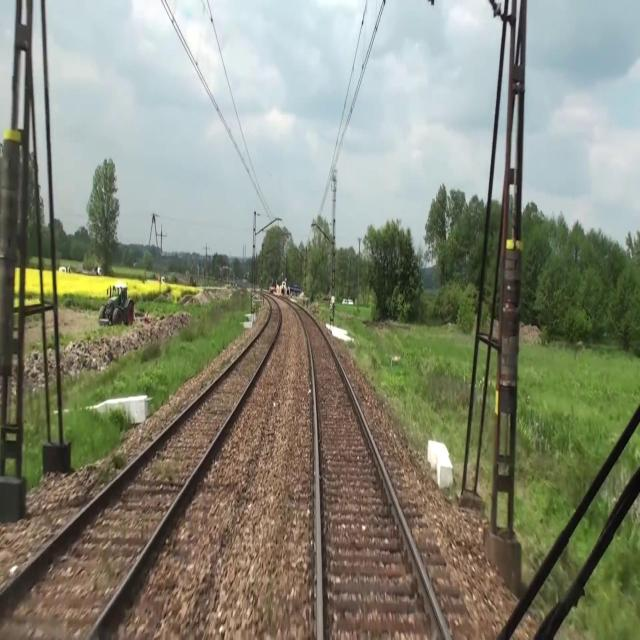rail-track: (0, 297, 279, 639), (296, 307, 446, 639)
